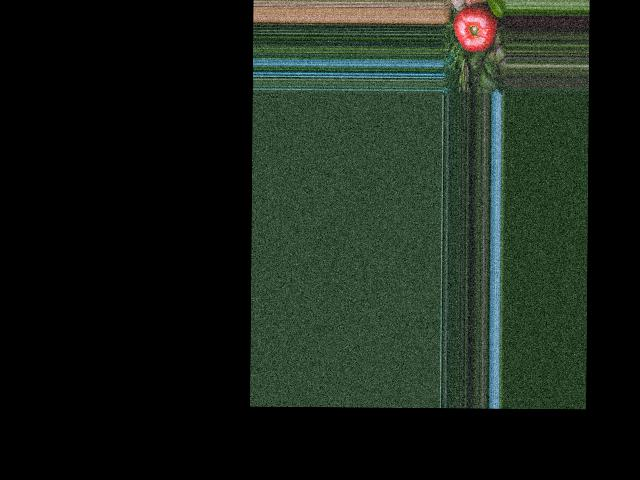tomato: (453, 3, 499, 51)
